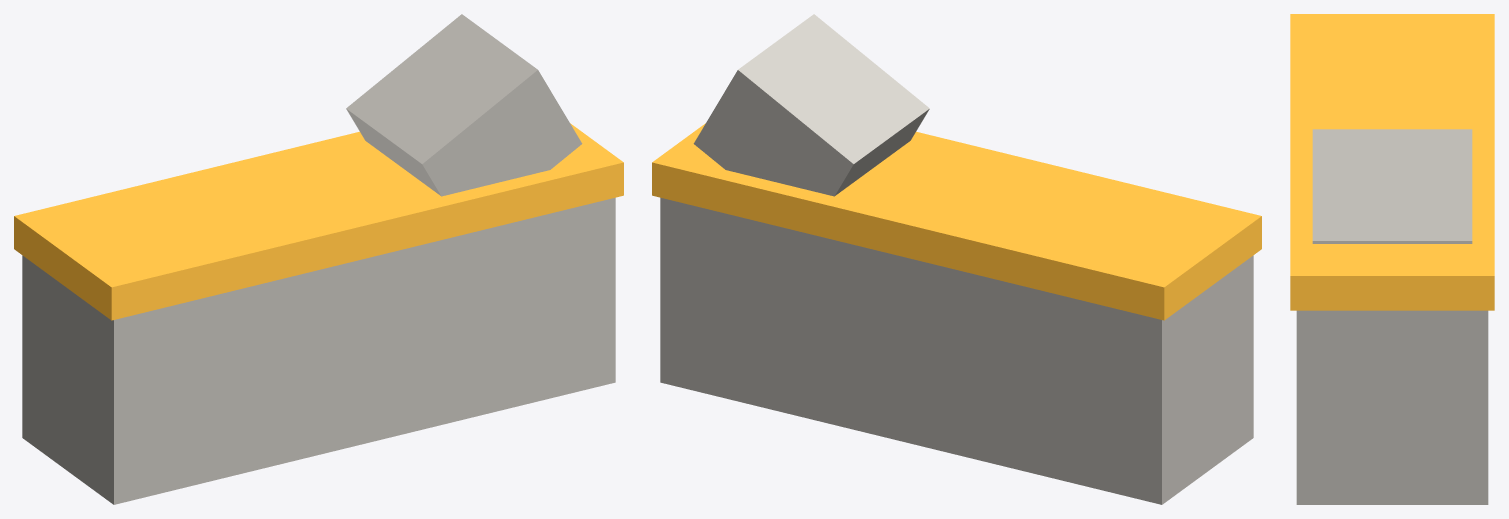
File: jump-barrier.glb
The picture shows the model from 3 angles, left to right: view 1: azimuth 30°, elevation 25°; view 2: azimuth 150°, elevation 25°; view 3: azimuth 270°, elevation 25°; orthographic projection. The views are drawn at different scales.
Parts seen in each view (by area): view 1: stairway jump-barrier; view 2: stairway jump-barrier; view 3: stairway jump-barrier.
Part boxes in pixels (bbox=[...]): stairway jump-barrier: bbox=[14, 14, 623, 504]; stairway jump-barrier: bbox=[652, 14, 1261, 504]; stairway jump-barrier: bbox=[1290, 14, 1494, 504].
Bounding box in the file's own units: 1.94 × 1.17 × 0.64.
